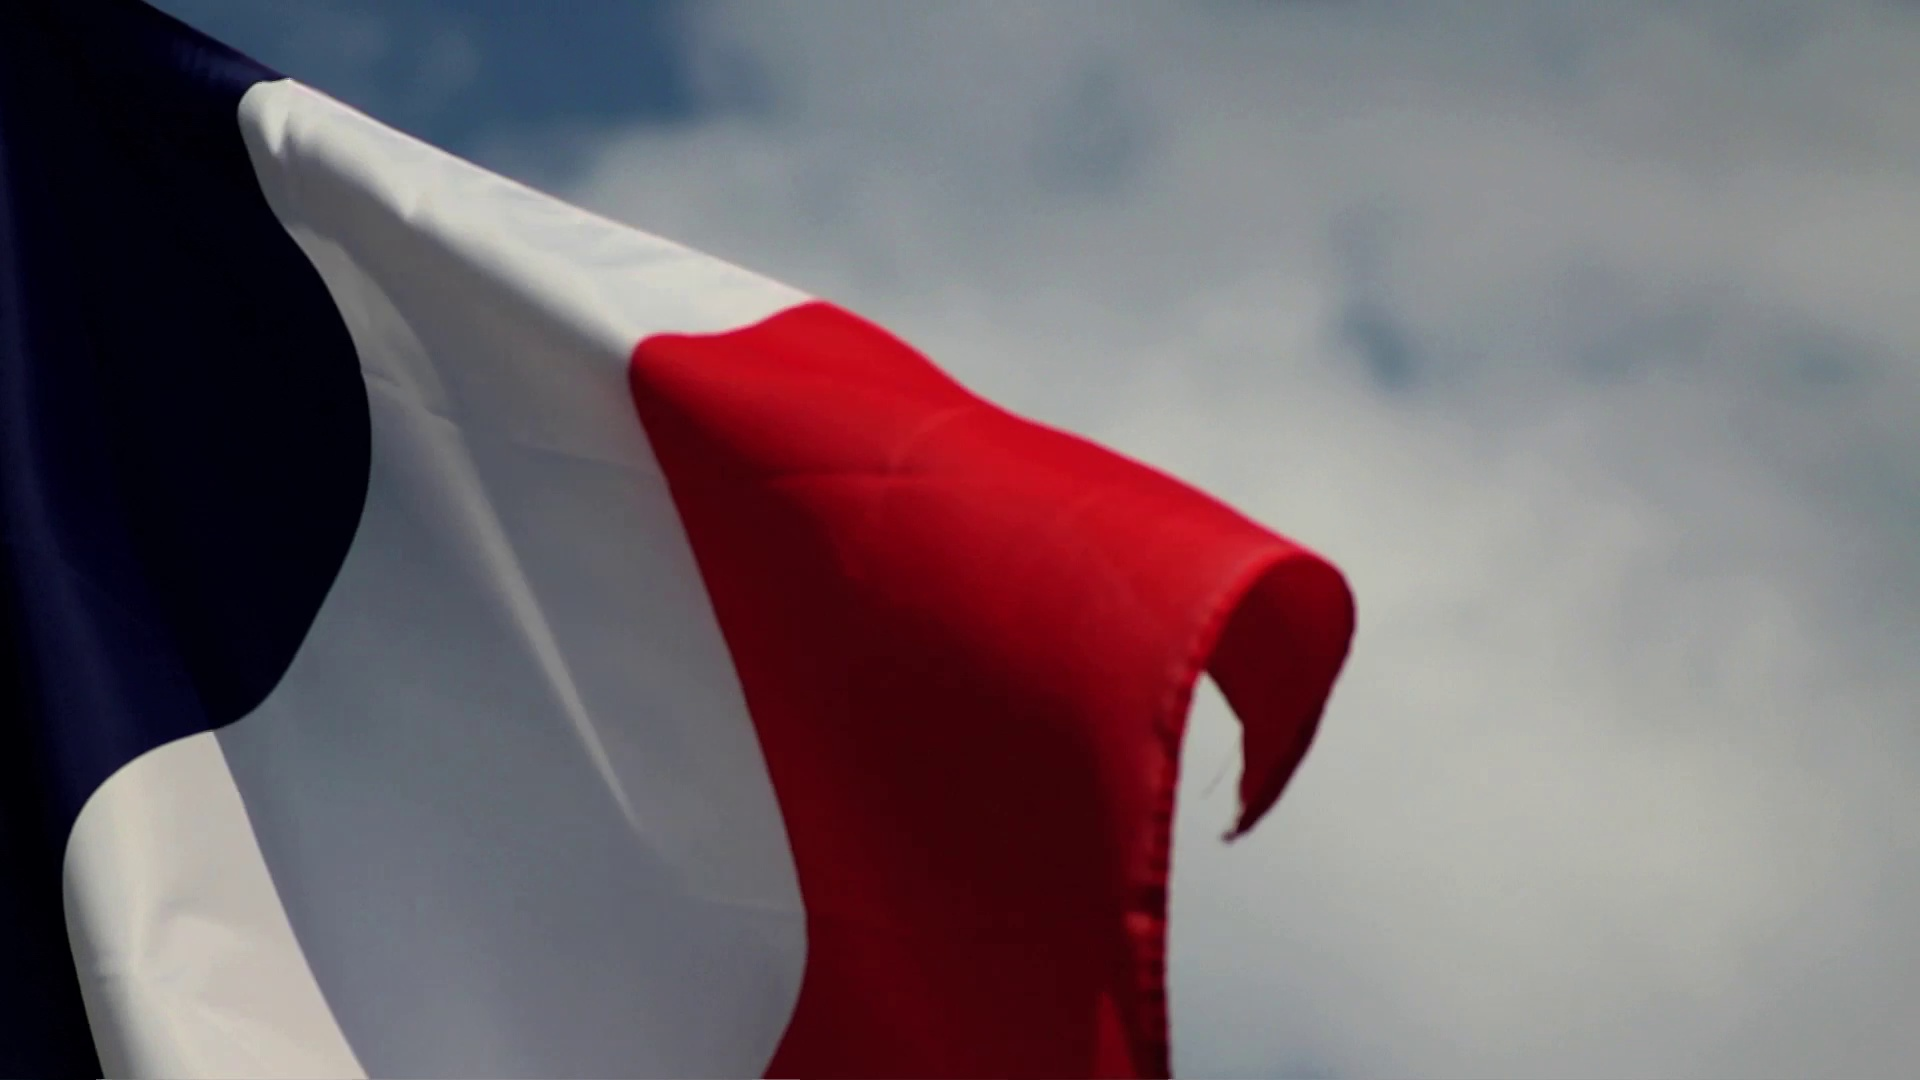French Flag: (1, 1, 1365, 1080)
